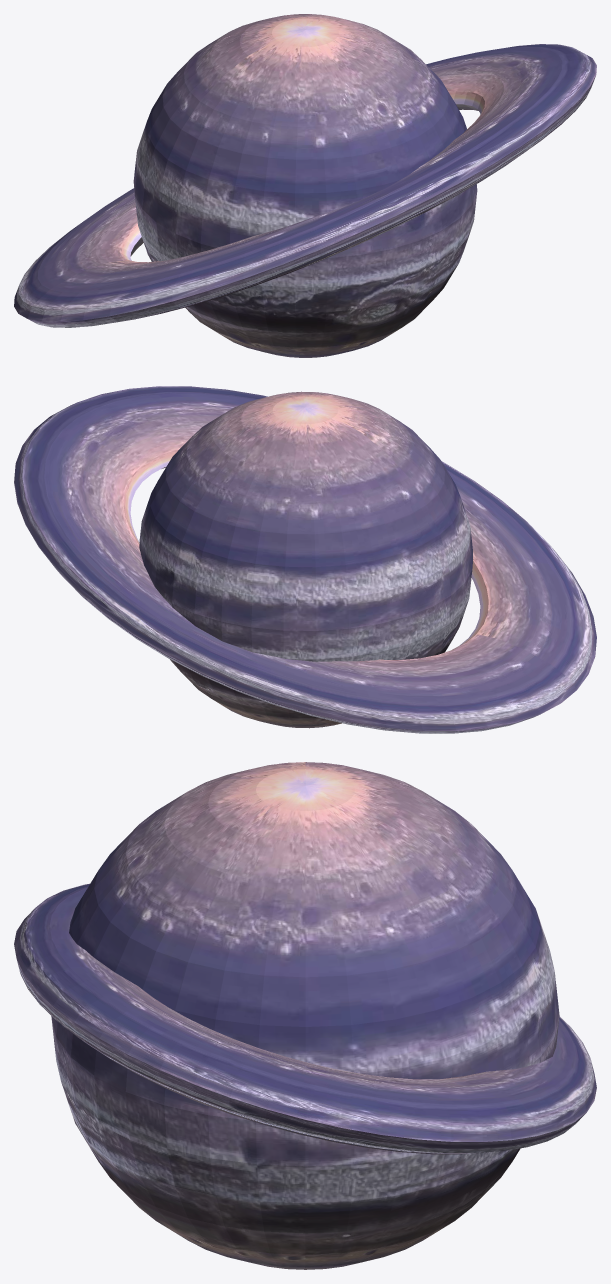
Rendered from saturn.fbx.
3 views of the same model, one above another, from view 1: azimuth 30°, elevation 25°; view 2: azimuth 150°, elevation 25°; view 3: azimuth 270°, elevation 25° (orthographic). The views are drawn at different scales.
Parts seen in each view (by area): view 1: Сфера, Тор; view 2: Сфера, Тор; view 3: Сфера, Тор.
Boxes of the visible parts, x1=… form: Сфера: x1=133, y1=14, x2=477, y2=357; Тор: x1=14, y1=44, x2=596, y2=327; Сфера: x1=139, y1=391, x2=473, y2=728; Тор: x1=14, y1=386, x2=596, y2=733; Сфера: x1=51, y1=762, x2=559, y2=1269; Тор: x1=14, y1=883, x2=596, y2=1154.
Size of the model in its own units: 373 by 200 by 229.
1 material, 1 textured.
